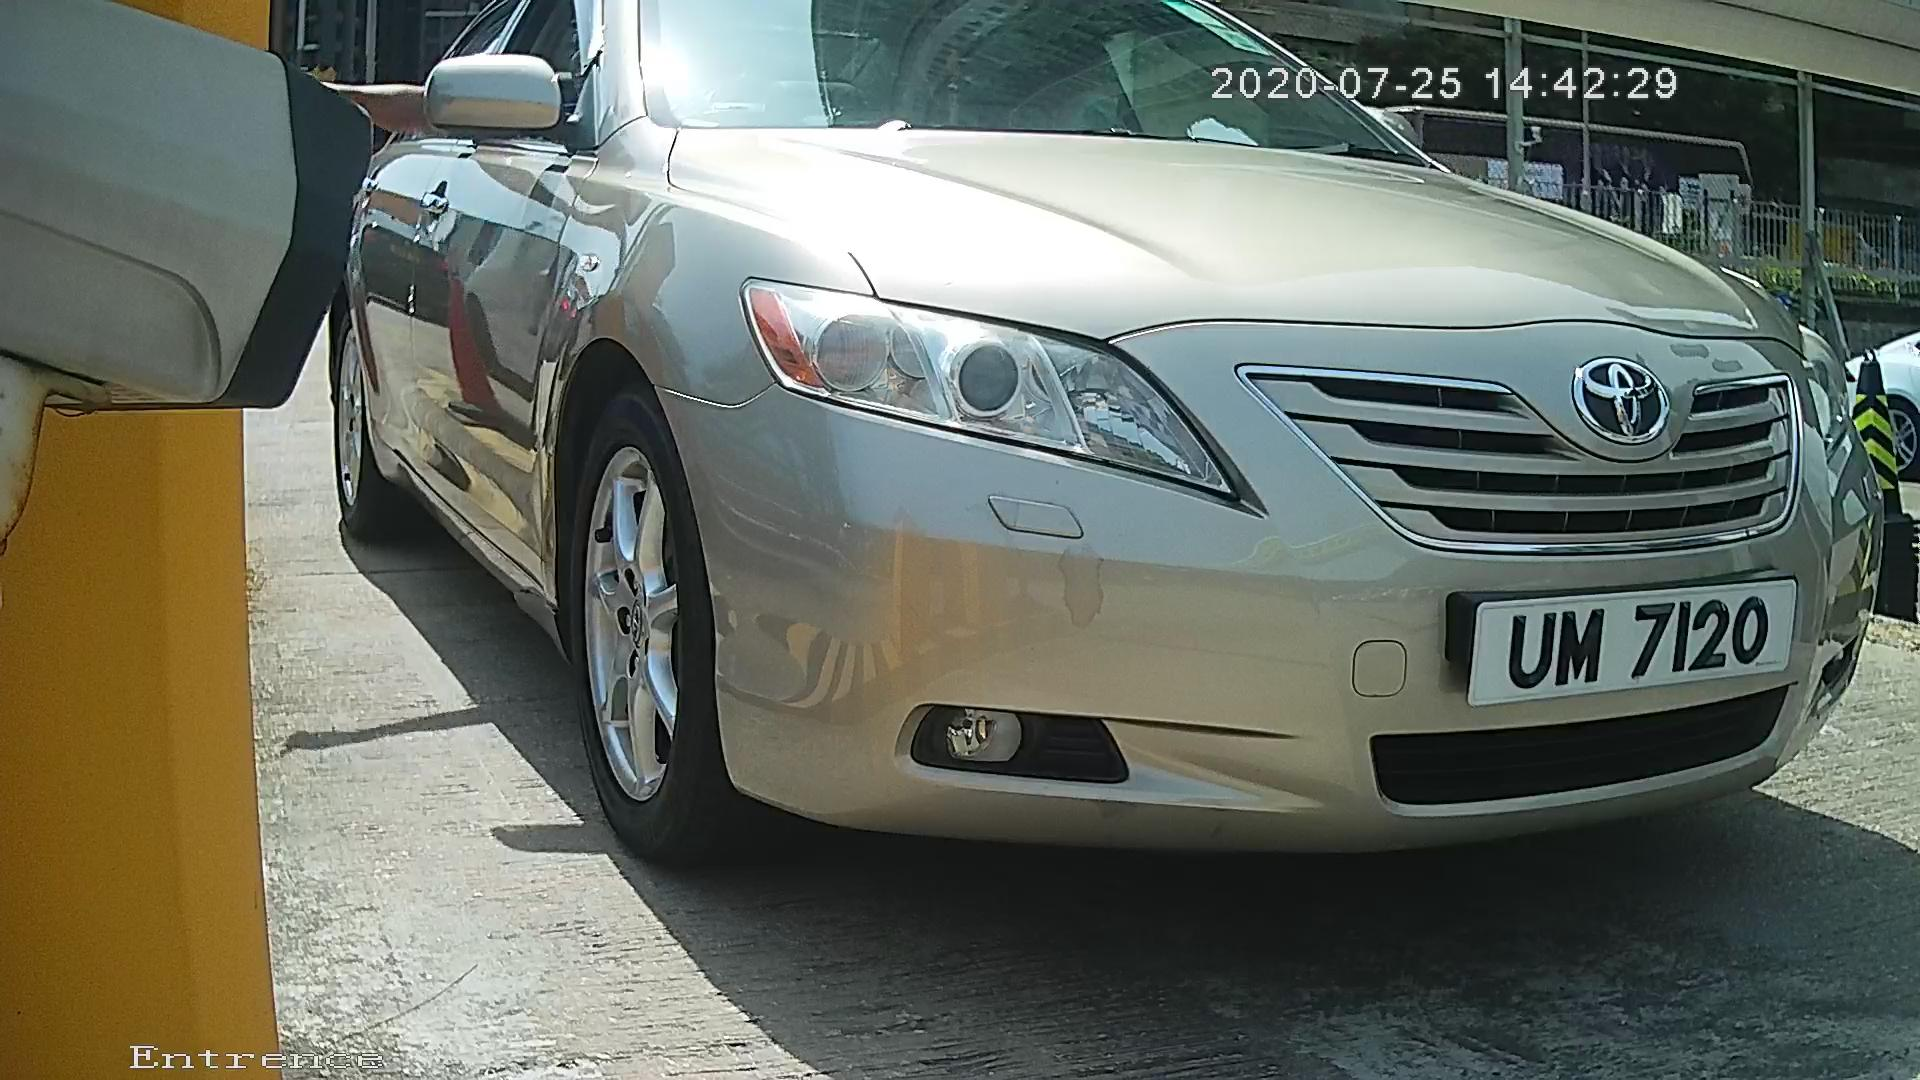License Plate: (1423, 560, 1801, 733)
